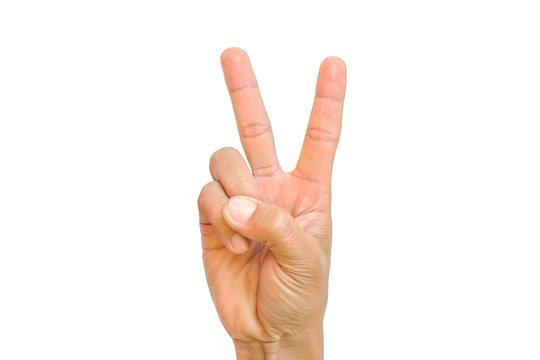peace_sign: (184, 35, 359, 354)
